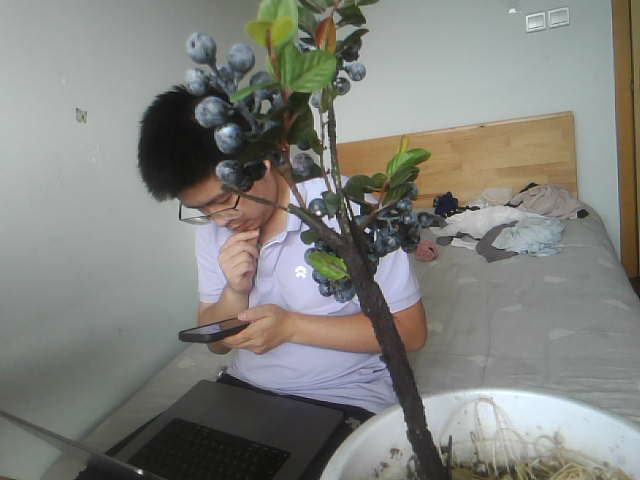blueberry: (308, 269, 352, 308), (178, 61, 214, 91), (195, 93, 228, 124), (244, 72, 281, 98), (217, 154, 243, 187), (233, 35, 256, 71), (181, 35, 217, 57), (401, 211, 429, 239), (349, 209, 370, 245), (214, 125, 247, 142), (287, 160, 318, 177), (308, 85, 330, 108), (303, 189, 323, 212), (336, 74, 357, 95), (381, 217, 403, 235), (349, 57, 369, 75), (368, 242, 388, 254), (388, 193, 424, 199)
